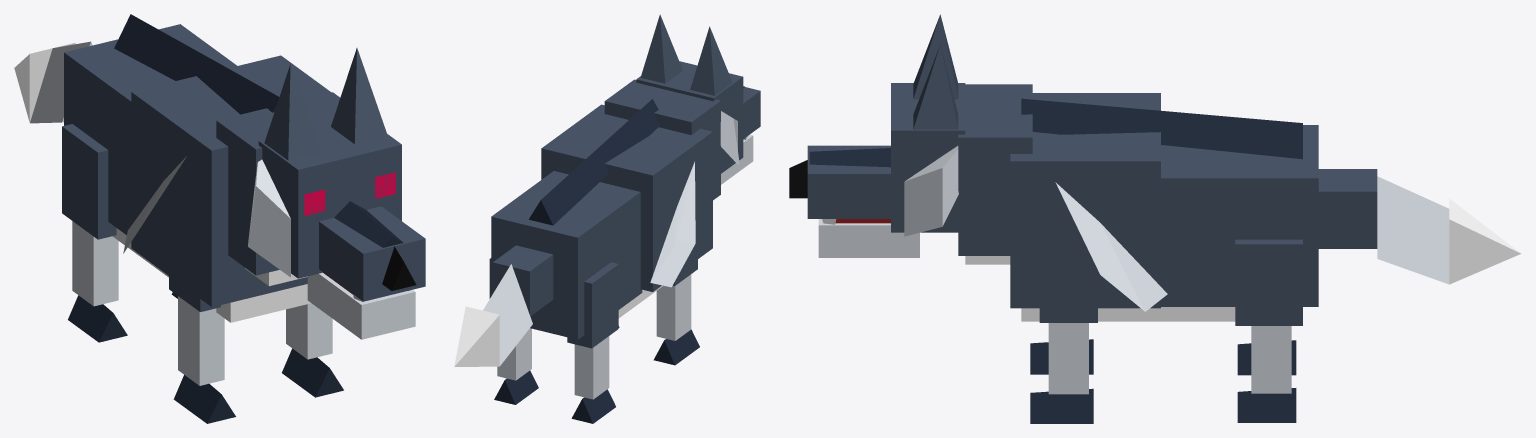
The model's file is wolf.fbx.
3 renders of one model, left to right at view 1: azimuth 30°, elevation 25°; view 2: azimuth 150°, elevation 25°; view 3: azimuth 270°, elevation 25°, orthographic. The views are drawn at different scales.
Parts seen in each view (by area): view 1: Body, Head, Pelvis, Snout, Neck, SpineRidge, Leg_BL_Upper, LowerJaw, Leg_FL_Lower, Cheek_L, Leg_BL_Lower, Ear_L (+15 smaller); view 2: Pelvis, Body, Neck, SpineRidge, Tail_01, Leg_BL_Upper, Ruff_L, Head, Tail_02, Tail_03, Leg_FL_Lower, Leg_BL_Lower (+10 smaller); view 3: Body, Pelvis, Neck, SpineRidge, Leg_BR_Upper, Tail_02, Head, Snout, Tail_01, Ruff_R, Cheek_R, LowerJaw (+13 smaller).
Boxes of the visible parts, bbox=[...] form: Body: bbox=[131, 55, 331, 306]; Head: bbox=[258, 123, 401, 278]; Pelvis: bbox=[64, 24, 236, 235]; Snout: bbox=[319, 206, 425, 301]; Neck: bbox=[216, 92, 339, 275]; SpineRidge: bbox=[114, 14, 279, 114]; Leg_BL_Upper: bbox=[62, 124, 116, 239]; LowerJaw: bbox=[307, 272, 415, 339]; Leg_FL_Lower: bbox=[178, 296, 224, 385]; Cheek_L: bbox=[248, 159, 290, 277]; Leg_BL_Lower: bbox=[72, 221, 118, 306]; Ear_L: bbox=[264, 64, 321, 160]; Pelvis: bbox=[491, 171, 642, 339]; Body: bbox=[541, 104, 712, 291]; Neck: bbox=[604, 79, 720, 200]; SpineRidge: bbox=[528, 99, 660, 225]; Tail_01: bbox=[492, 245, 553, 316]; Leg_BL_Upper: bbox=[567, 262, 618, 348]; Ruff_L: bbox=[650, 161, 695, 287]; Head: bbox=[636, 61, 743, 173]; Tail_02: bbox=[483, 264, 532, 366]; Tail_03: bbox=[454, 306, 499, 366]; Leg_FL_Lower: bbox=[656, 274, 691, 340]; Leg_BL_Lower: bbox=[574, 336, 609, 399]; Body: bbox=[1010, 93, 1160, 308]; Pelvis: bbox=[1161, 125, 1318, 306]; Neck: bbox=[958, 84, 1032, 255]; SpineRidge: bbox=[1021, 98, 1302, 159]; Leg_BR_Upper: bbox=[1235, 239, 1302, 325]; Tail_02: bbox=[1377, 176, 1449, 284]; Head: bbox=[891, 83, 965, 232]; Snout: bbox=[807, 145, 890, 218]; Tail_01: bbox=[1318, 169, 1377, 248]; Ruff_R: bbox=[1055, 182, 1167, 311]; Cheek_R: bbox=[904, 146, 958, 236]; LowerJaw: bbox=[818, 219, 919, 257].
Bounding box in the file's own units: 192 × 356 × 650.
